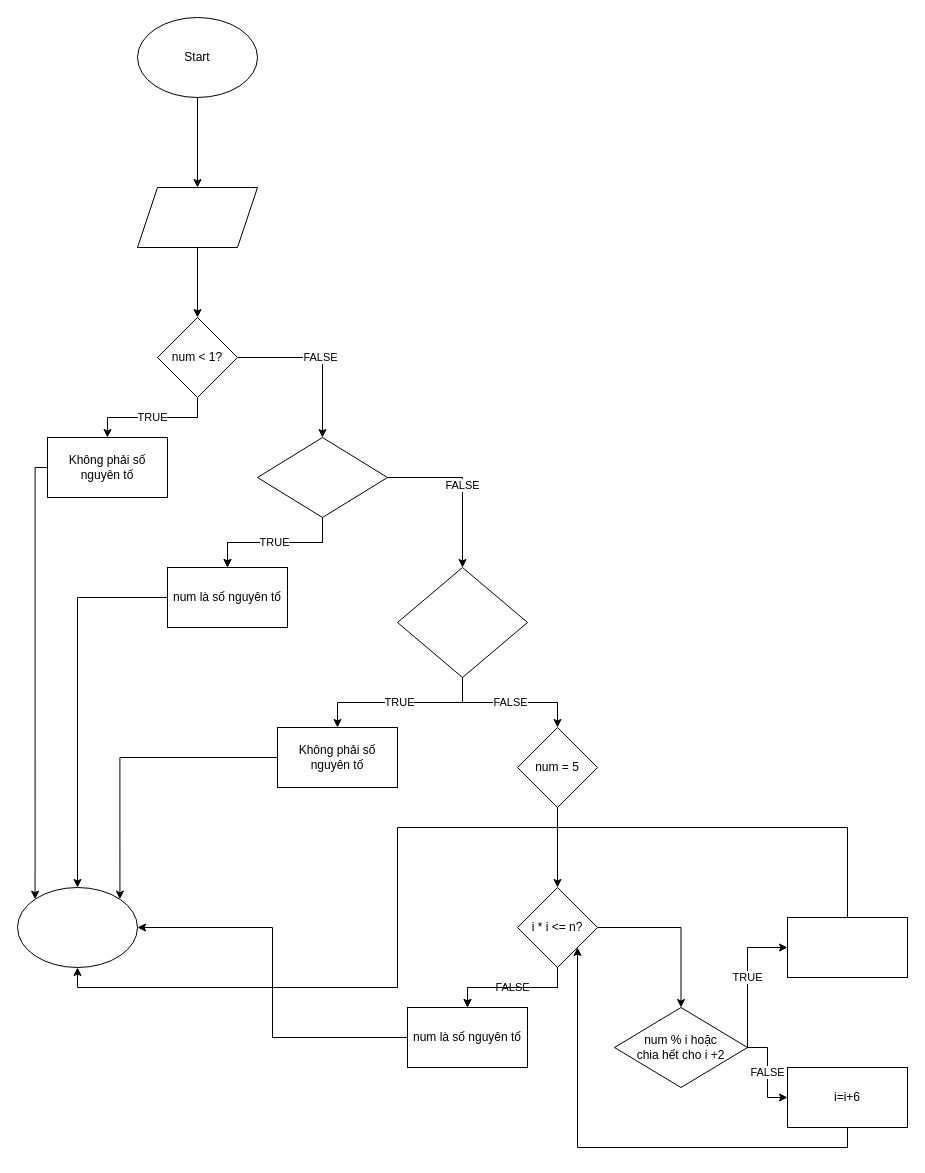
The diagram is 925 pixels wide and 1173 high, and some of its shapes have lost their labels. The shapes that lost their labels are listed below. From the top down, each one's centre as x and y in pixels, then its label:
At [197,217]: "input num".
At [322,477]: "num <= 3".
At [462,622]: "num % 2 == 0 hoặc num % 3 == 0".
At [77,927]: "END".
At [847,947]: "không phải là số nguyên tố".
